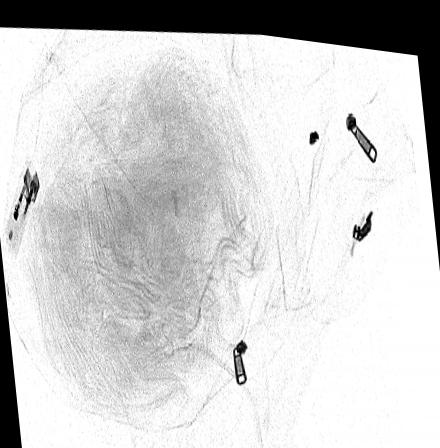Lighter: (4, 163, 40, 252)
